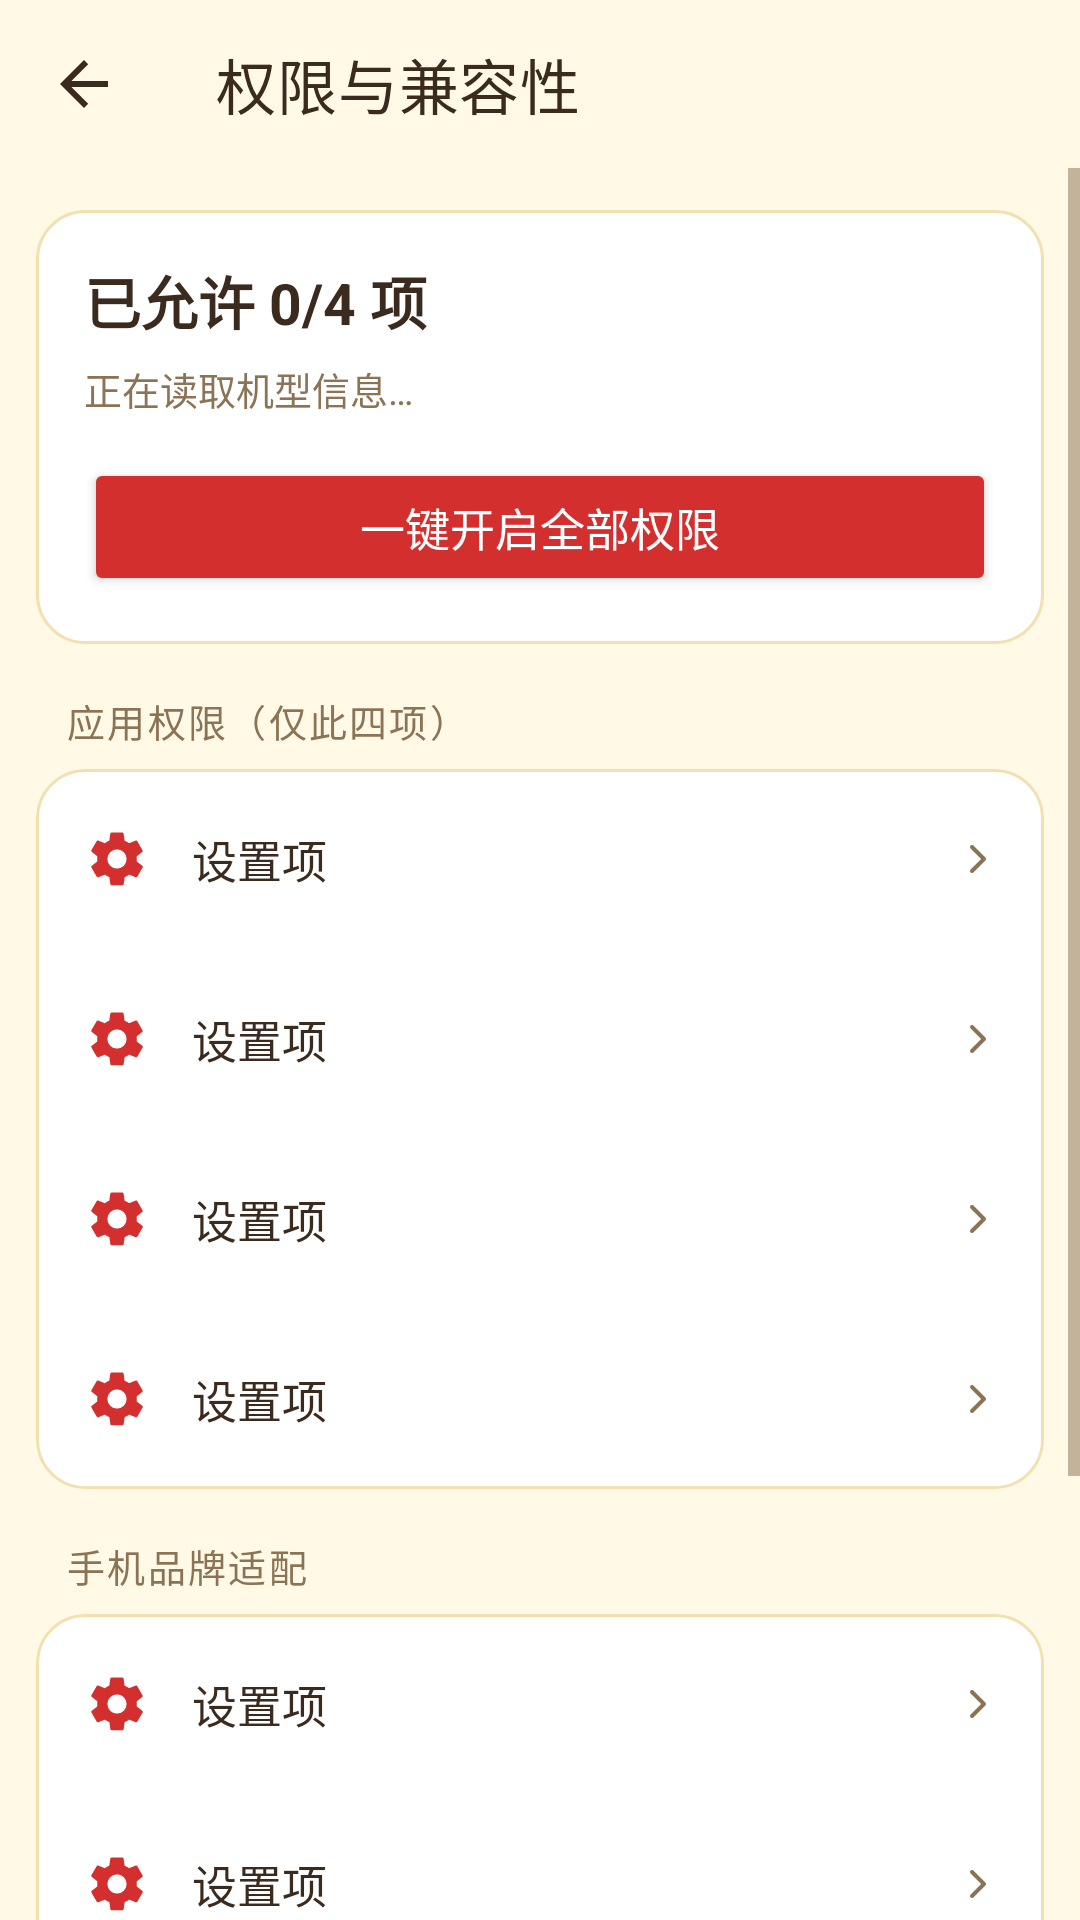

Icons on this 1080 x 1920 Android screen, each with its box as (x1, y1, x2, y2):
chevron right: (970, 845, 986, 873), (970, 1025, 986, 1053), (970, 1205, 986, 1233), (970, 1385, 986, 1413), (970, 1690, 986, 1718), (970, 1870, 986, 1898)
settings: (91, 832, 143, 886), (91, 1012, 143, 1066), (91, 1192, 143, 1246), (91, 1372, 143, 1426), (91, 1677, 143, 1731), (91, 1857, 143, 1911)
